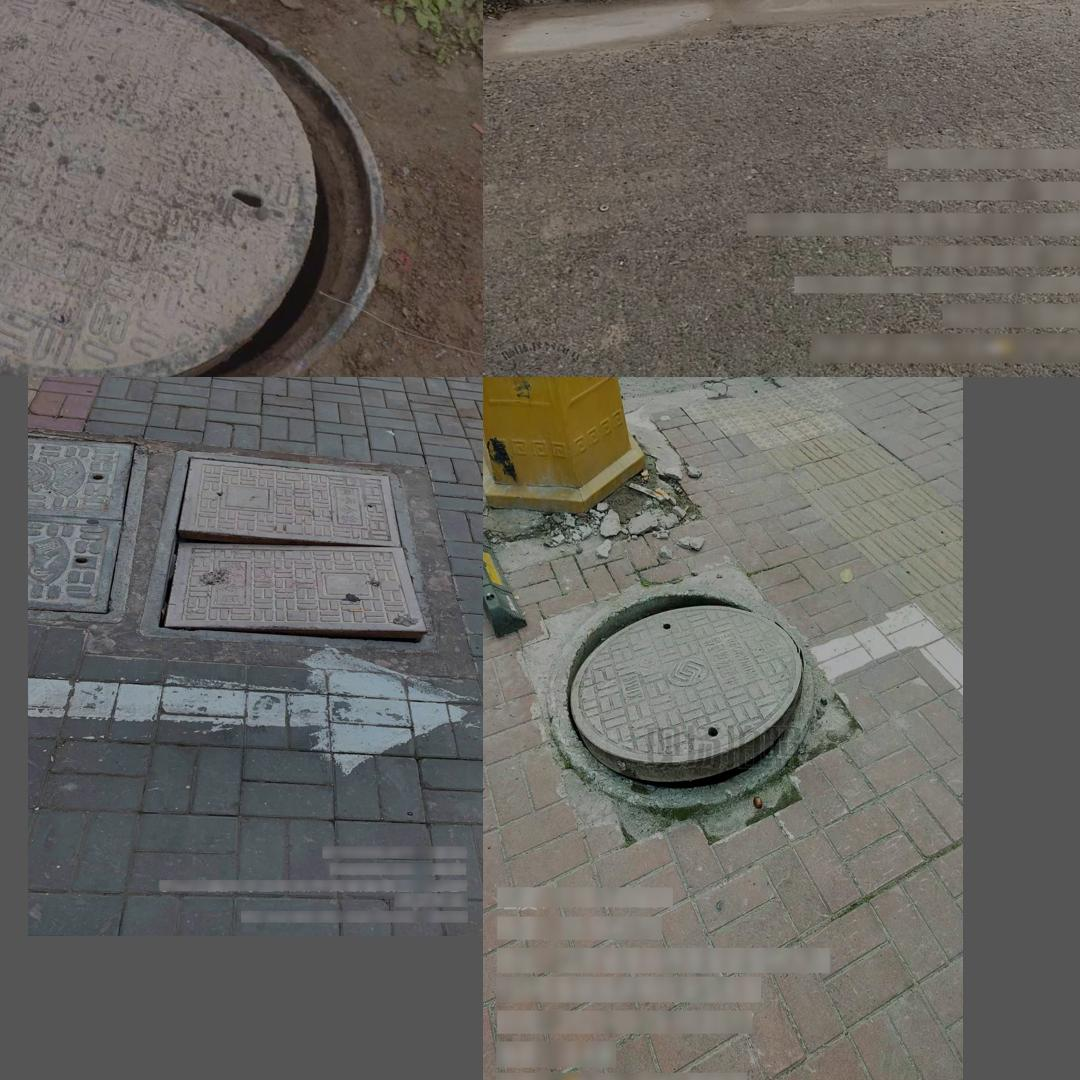good: (33, 431, 151, 625)
uncovered: (0, 0, 443, 365), (138, 449, 435, 647), (551, 583, 807, 810)
